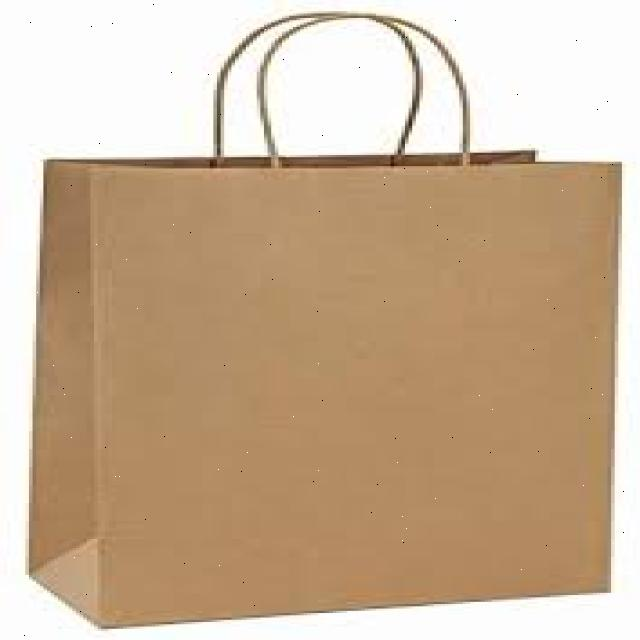paper bag: (22, 8, 615, 629)
